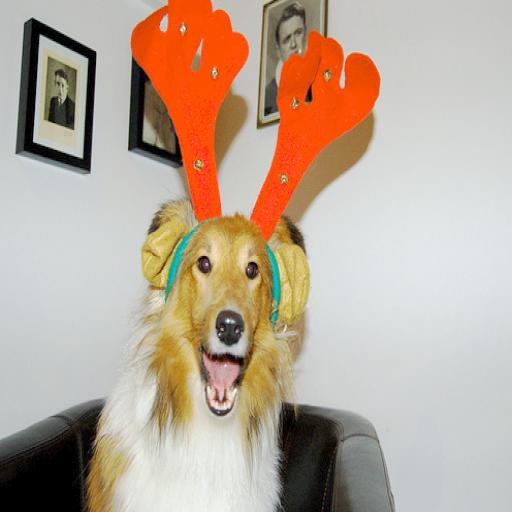dog_face: (138, 199, 316, 423)
